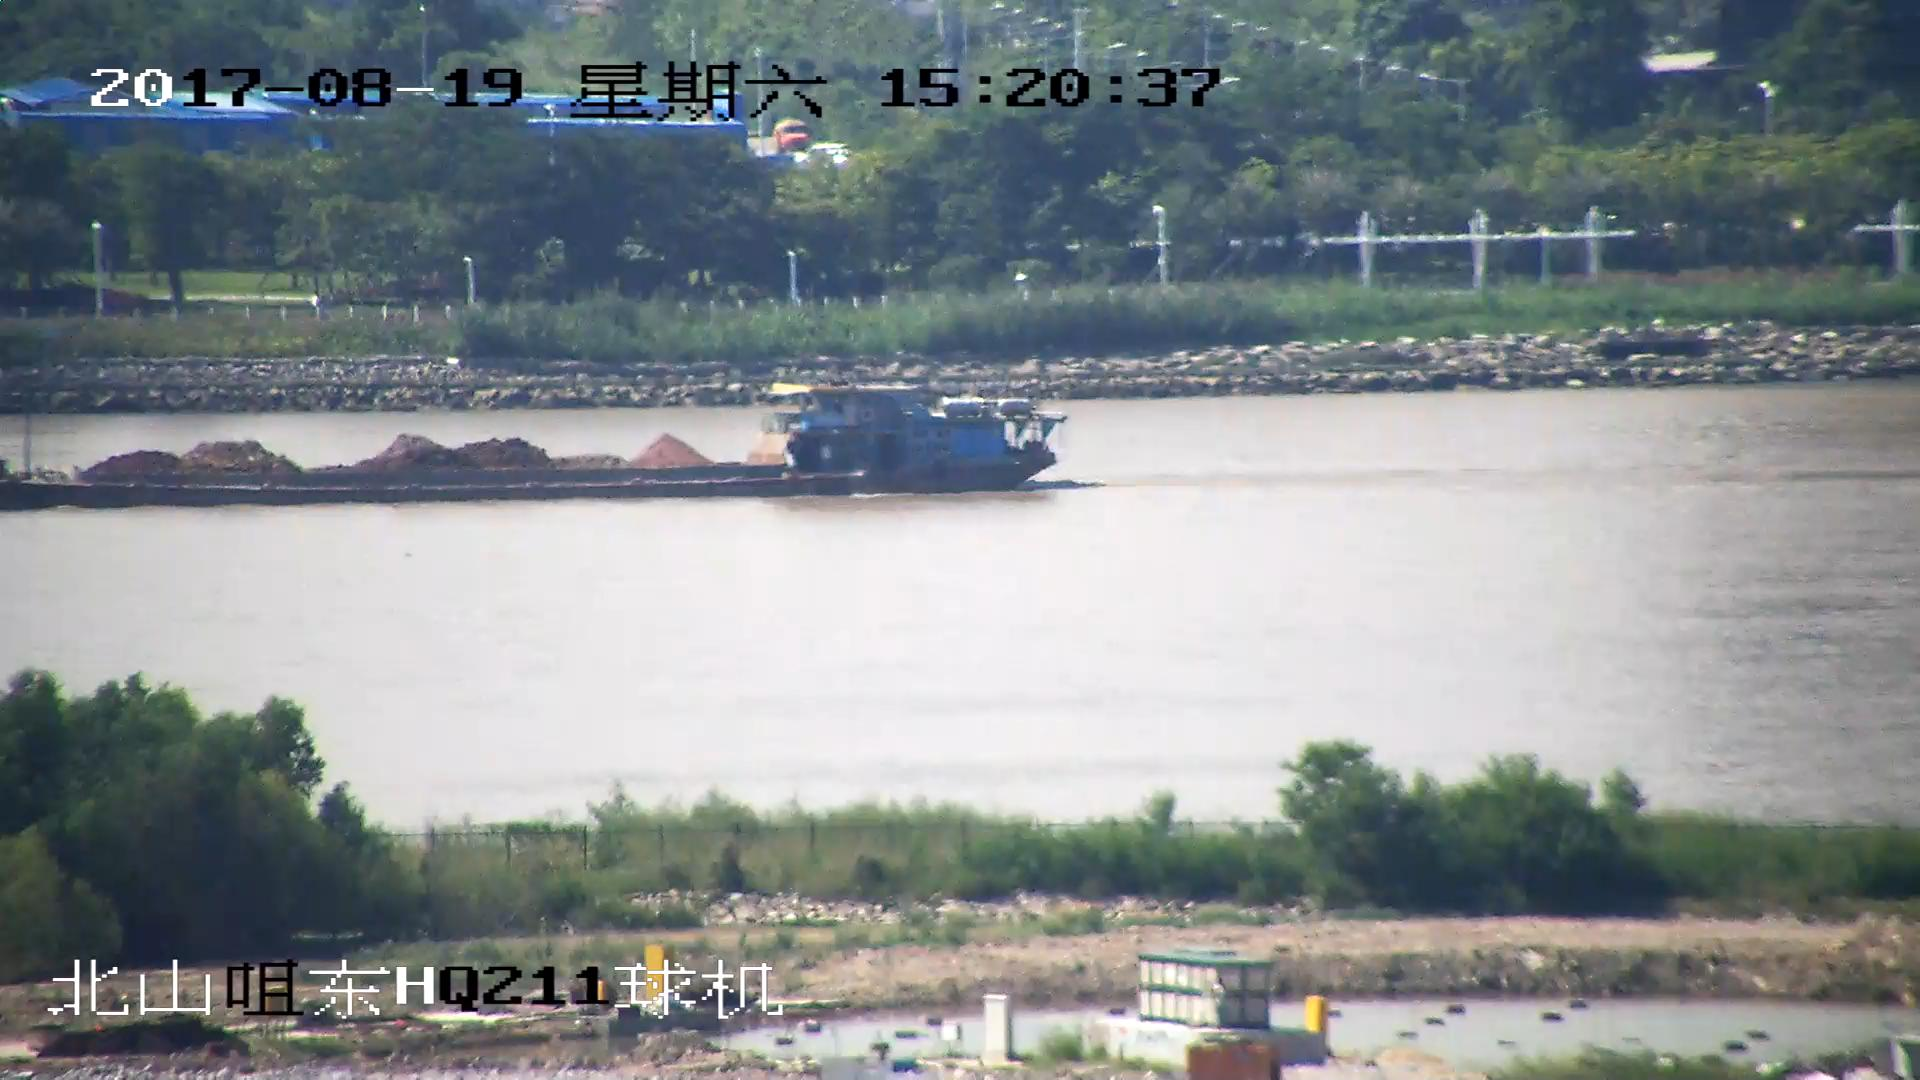ore carrier: (1, 377, 1060, 510)
